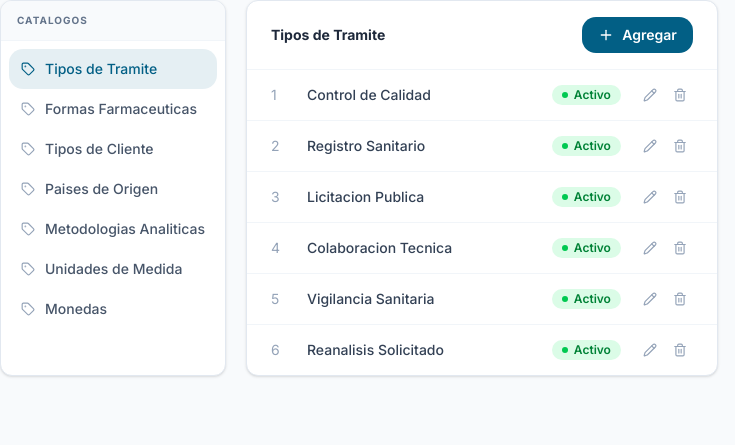
Test: Navegación de catálogos › clicking Paises shows Honduras
Click the button "Paises de Origen".
click(113, 189)  # box 9,169 -> 217,209
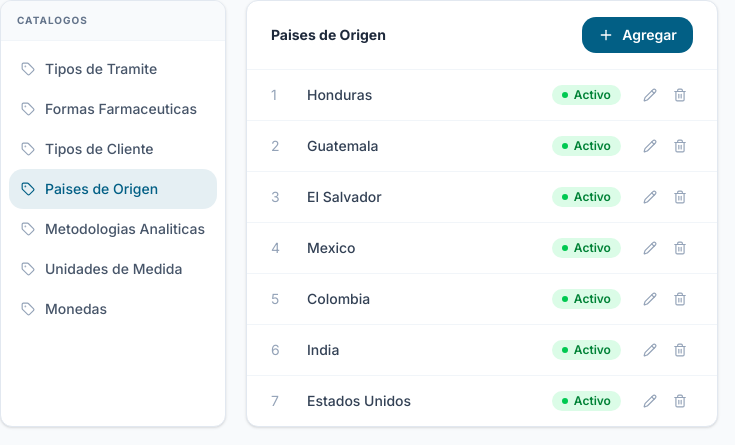
Result: the text "Honduras" is shown at 307,86 -> 372,103
